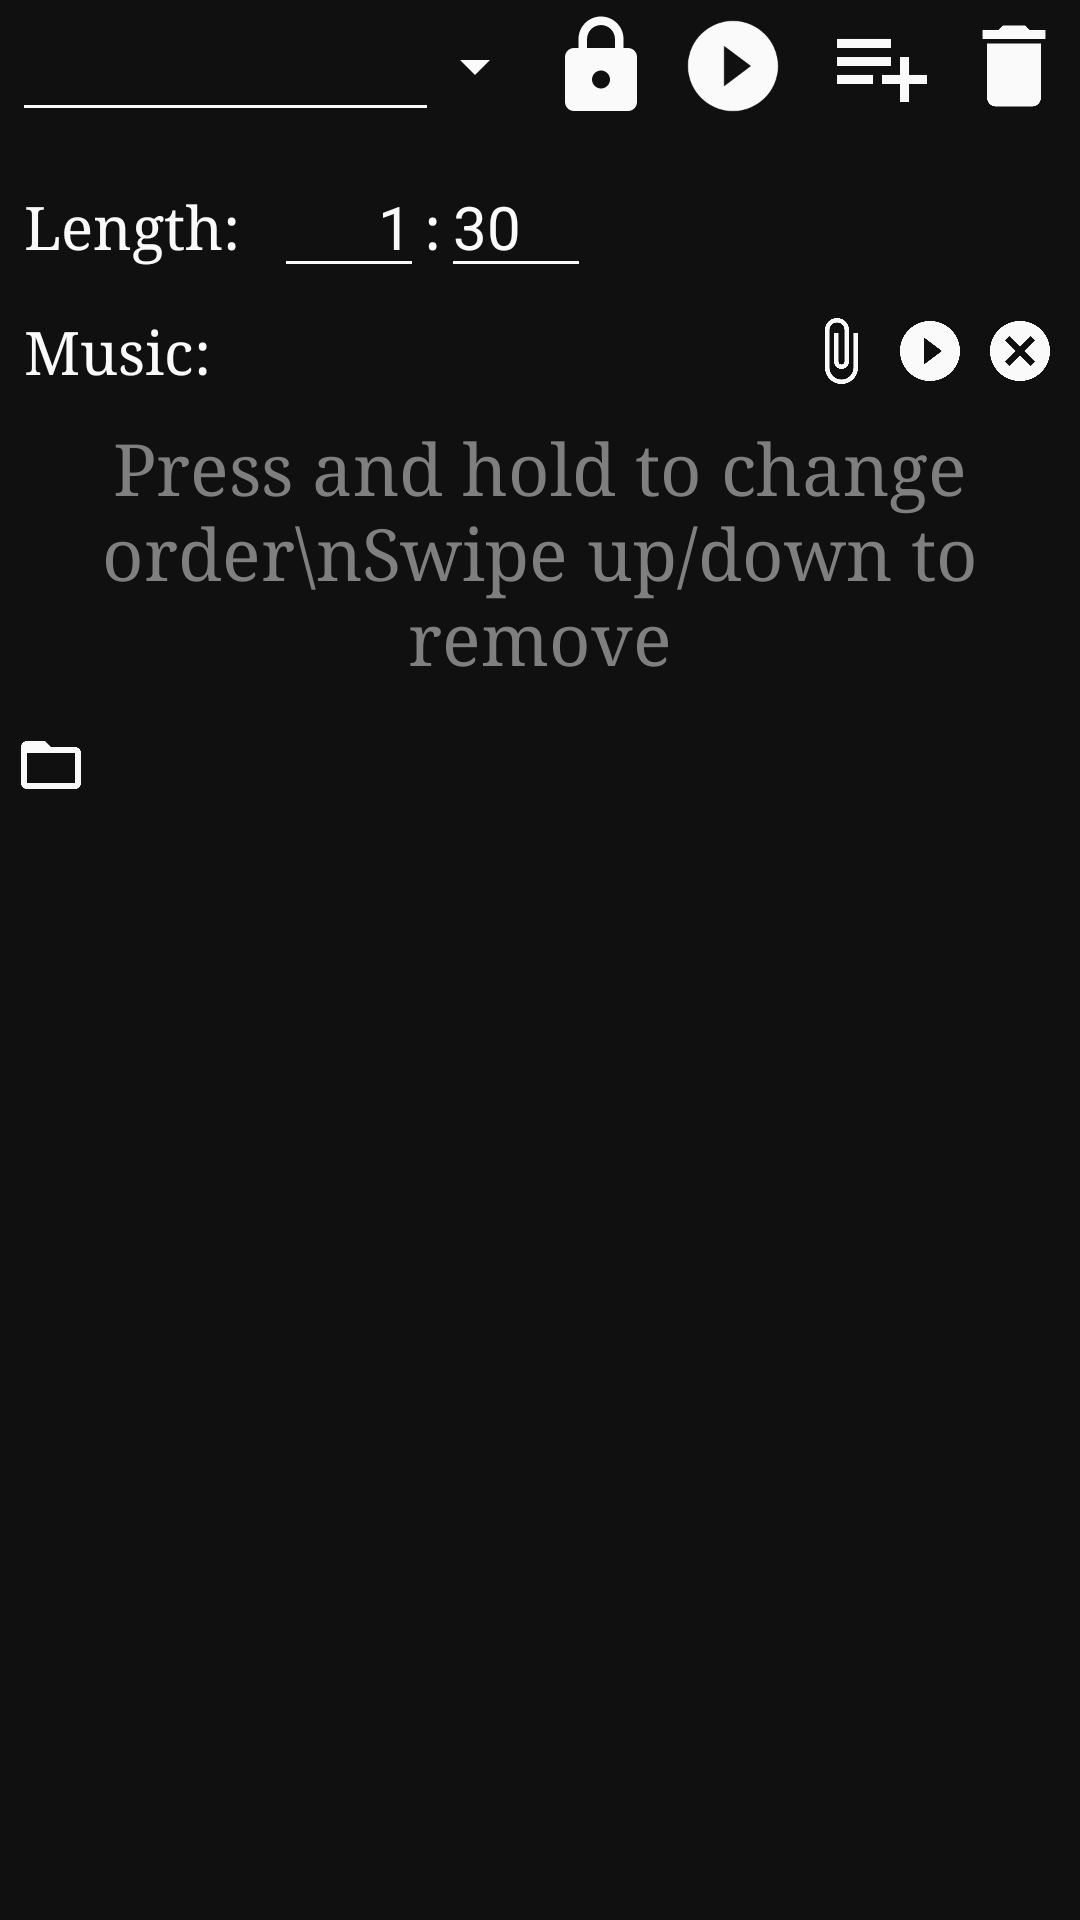

Icon click points for this 1080*1920 phone screenshot, format [x,y]:
arrow drop down: [475,67]
attach file: [841,351]
cancel: [1020,351]
delete: [1014,66]
folder open: [51,765]
lock: [601,63]
play circle: [733,66], [930,351]
playlist add: [882,70]
